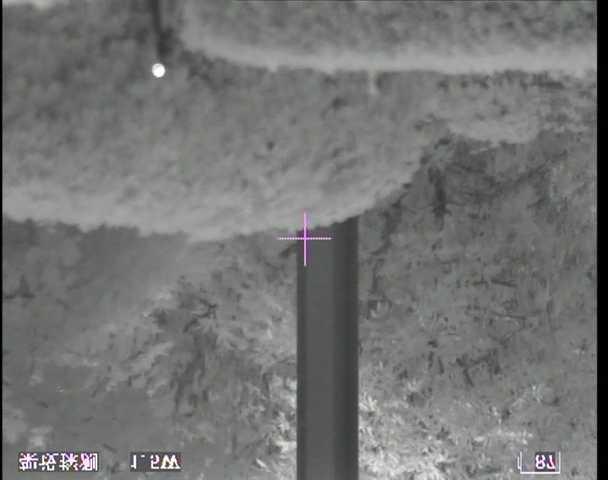my: (151, 62, 166, 79)
